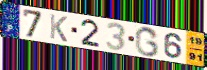2: (80, 19, 101, 49)
3: (105, 22, 129, 52)
6: (163, 32, 184, 60)
7: (22, 7, 43, 39)
G: (134, 26, 160, 58)
K: (49, 13, 69, 44)
